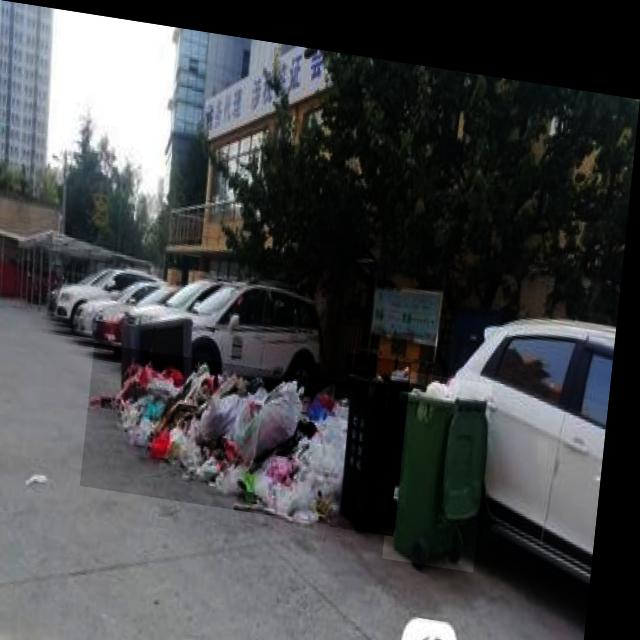garbage: (90, 339, 360, 513)
overflow: (393, 356, 499, 555), (340, 341, 418, 523)
